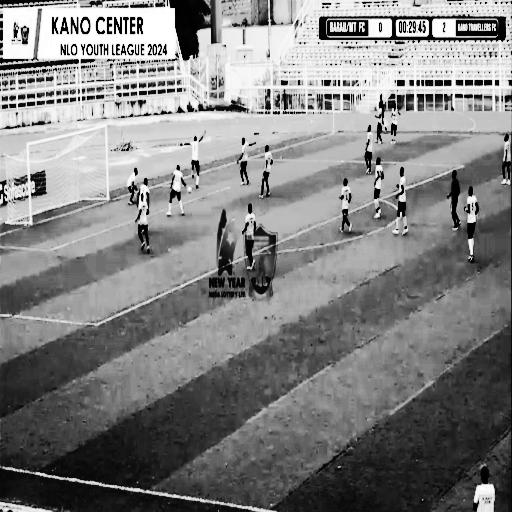ball: (185, 184, 196, 199)
distract: (467, 447, 499, 512)
referee: (448, 162, 462, 233), (123, 165, 143, 206)
team1: (388, 163, 415, 242), (462, 186, 484, 268), (165, 154, 189, 222), (372, 154, 388, 226), (188, 130, 204, 193), (388, 100, 403, 149), (139, 171, 150, 198)
team2: (335, 173, 357, 244), (135, 188, 153, 261), (243, 199, 259, 281), (236, 136, 256, 192), (258, 141, 276, 199), (500, 129, 512, 192), (361, 120, 373, 177), (376, 100, 386, 153)
